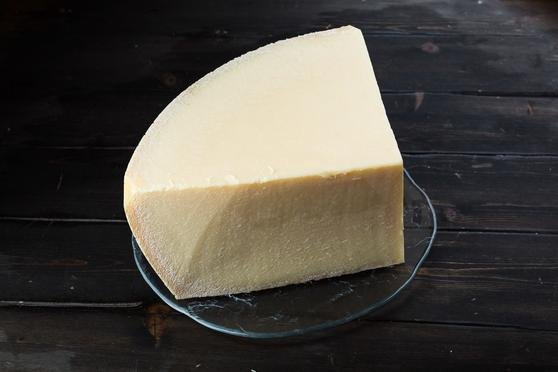cheese: (123, 19, 409, 293)
